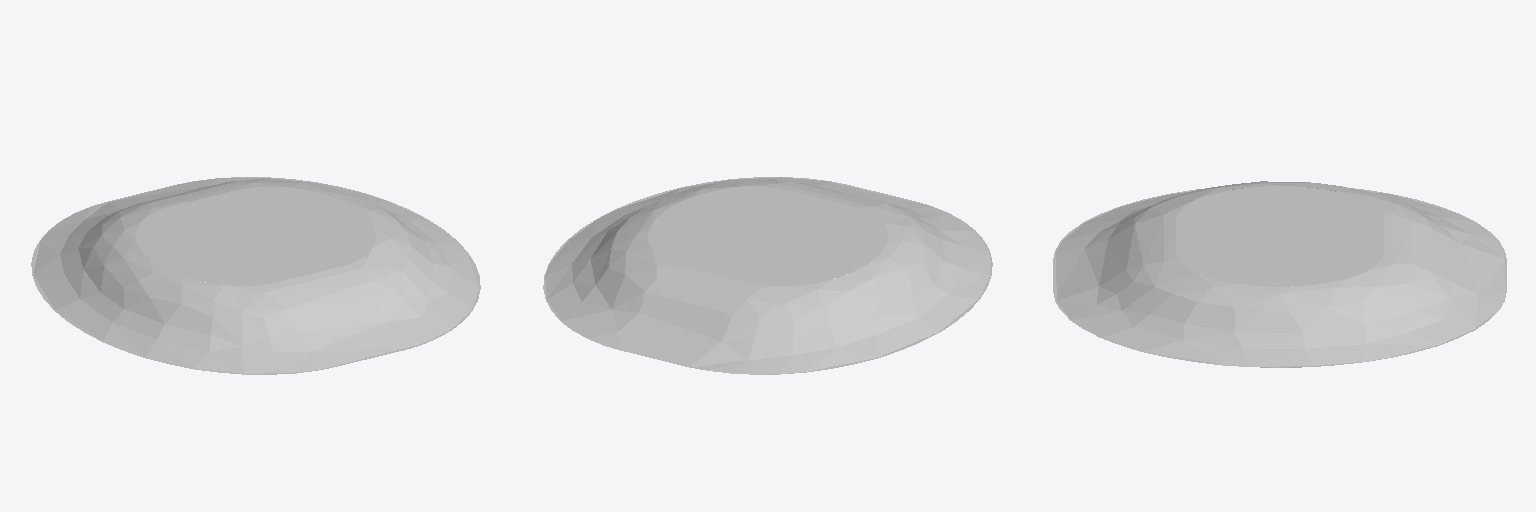
The model's file is Ramp2.obj.
3 views of the same model, side by side, from view 1: azimuth 30°, elevation 25°; view 2: azimuth 150°, elevation 25°; view 3: azimuth 270°, elevation 25° (orthographic).
Parts seen in each view (by area): view 1: Ramp:Mesh; view 2: Ramp:Mesh; view 3: Ramp:Mesh.
Boxes of the visible parts, x1,y1,x2,y2 form: Ramp:Mesh: [31, 177, 480, 374]; Ramp:Mesh: [543, 177, 992, 374]; Ramp:Mesh: [1053, 181, 1506, 367].
Bounding box in the file's own units: 13.17 × 1.35 × 13.72.